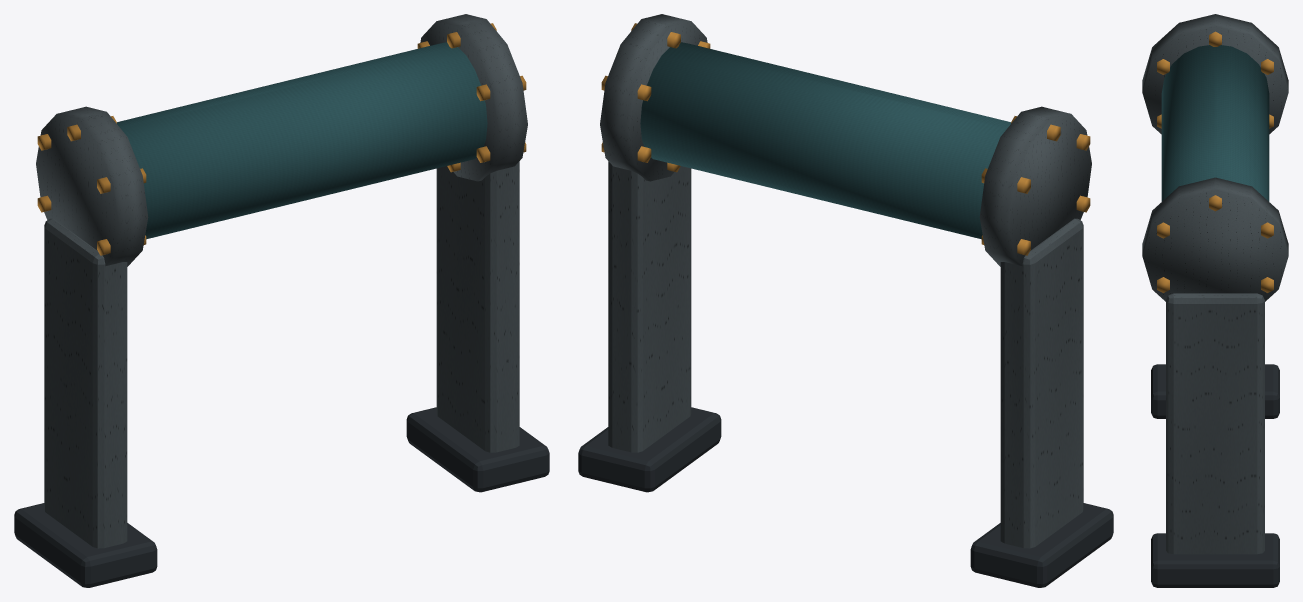
File: pipe.glb
The picture shows the model from 3 angles, left to right: view 1: azimuth 30°, elevation 25°; view 2: azimuth 150°, elevation 25°; view 3: azimuth 270°, elevation 25°; orthographic projection. The views are drawn at different scales.
Parts seen in each view (by area): view 1: pipe; view 2: pipe; view 3: pipe.
Boxes of the visible parts, left/top/right/bottom form: pipe: left=14, top=14, right=549, bottom=587; pipe: left=578, top=14, right=1113, bottom=587; pipe: left=1142, top=14, right=1288, bottom=587.
Size of the model in its own units: 2.22 by 1.99 by 0.68.
Materials: 4 (3 with a texture image).
